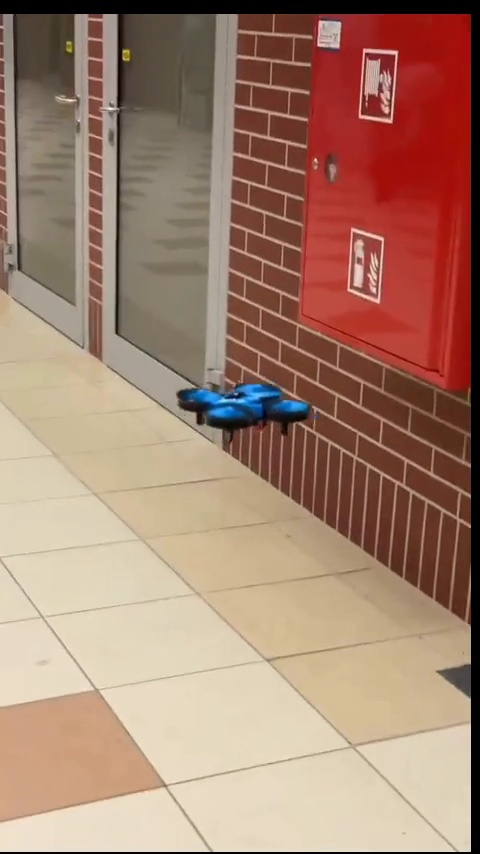drone: (180, 379, 314, 434)
